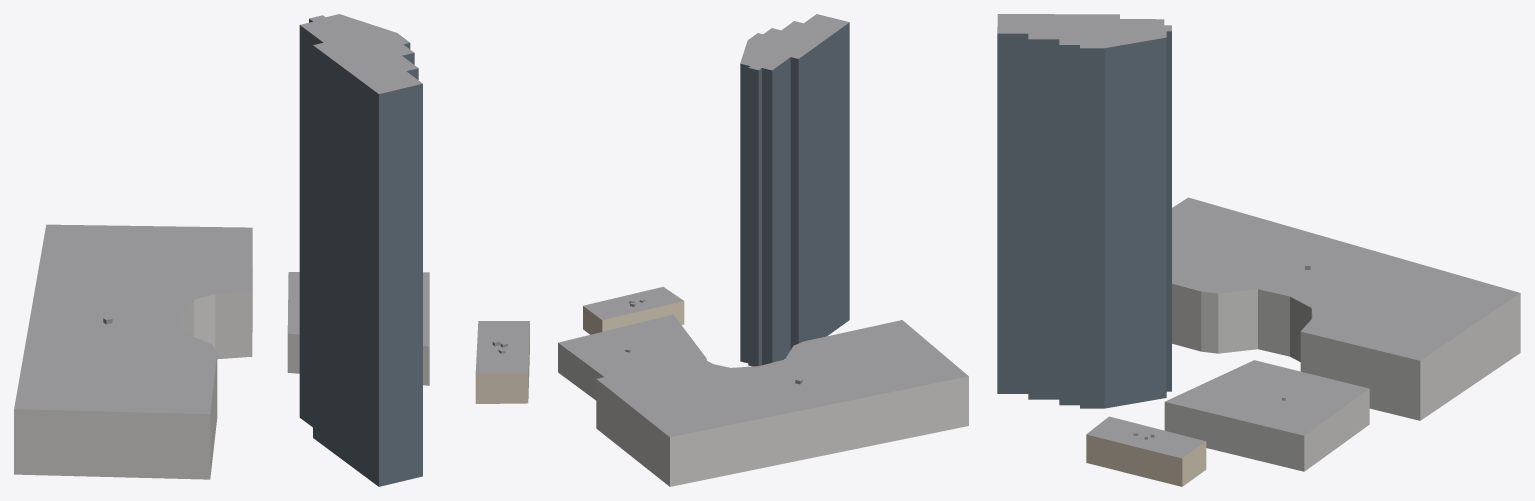
Rendered from building_2_1.glb.
3 renders of one model, left to right at view 1: azimuth 30°, elevation 25°; view 2: azimuth 150°, elevation 25°; view 3: azimuth 270°, elevation 25°, orthographic. The views are drawn at different scales.
Parts seen in each view (by area): view 1: glass_dark, roof, concrete_light, sandstone; view 2: glass_dark, roof, concrete_light, sandstone; view 3: glass_dark, roof, concrete_light, sandstone.
Part boxes in pixels (left/top/right/bottom): glass_dark: left=299, top=19, right=422, bottom=486; roof: left=14, top=14, right=529, bottom=414; concrete_light: left=14, top=267, right=429, bottom=479; sandstone: left=475, top=324, right=529, bottom=403; glass_dark: left=740, top=22, right=849, bottom=366; roof: left=558, top=14, right=968, bottom=437; concrete_light: left=558, top=343, right=968, bottom=486; sandstone: left=583, top=301, right=684, bottom=334; glass_dark: left=997, top=31, right=1171, bottom=408; roof: left=997, top=14, right=1519, bottom=458; concrete_light: left=1164, top=283, right=1520, bottom=471; sandstone: left=1086, top=434, right=1206, bottom=486.
Size of the model in its own units: 205 by 150 by 197.
